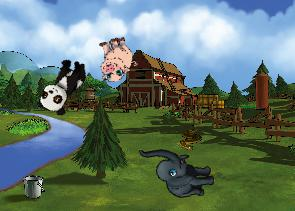elephant: (139, 138, 216, 204)
panda: (34, 52, 91, 119)
pig: (91, 33, 139, 84)
